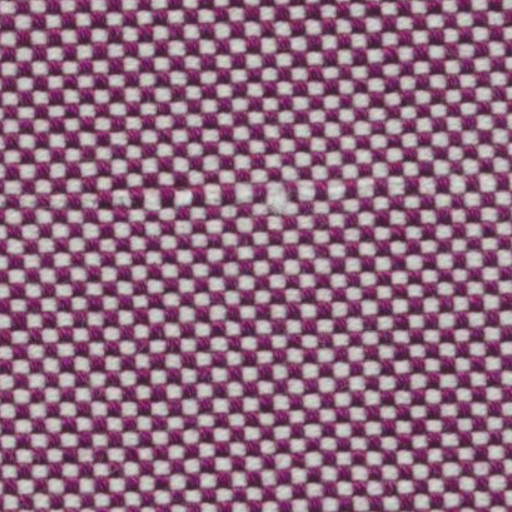DaiSha: (80, 175, 448, 218)
